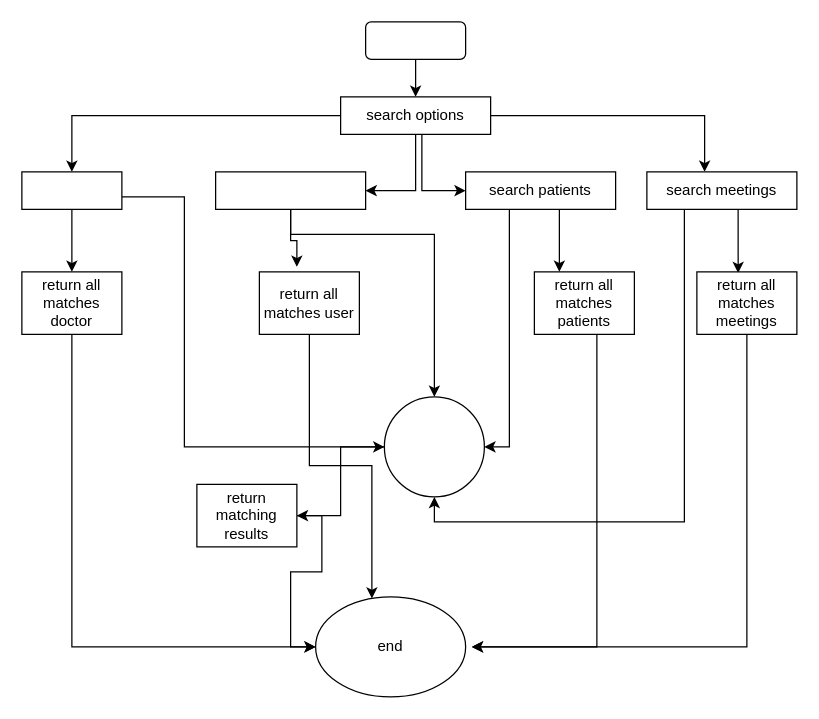
This 819x719 diagram has some shape labels left out. Here are the shapes that lost their labels. From the top down, the centre of each, then its label:
(415,40): search activity
(71,190): search doctor
(290,190): search users
(433,446): join searches
